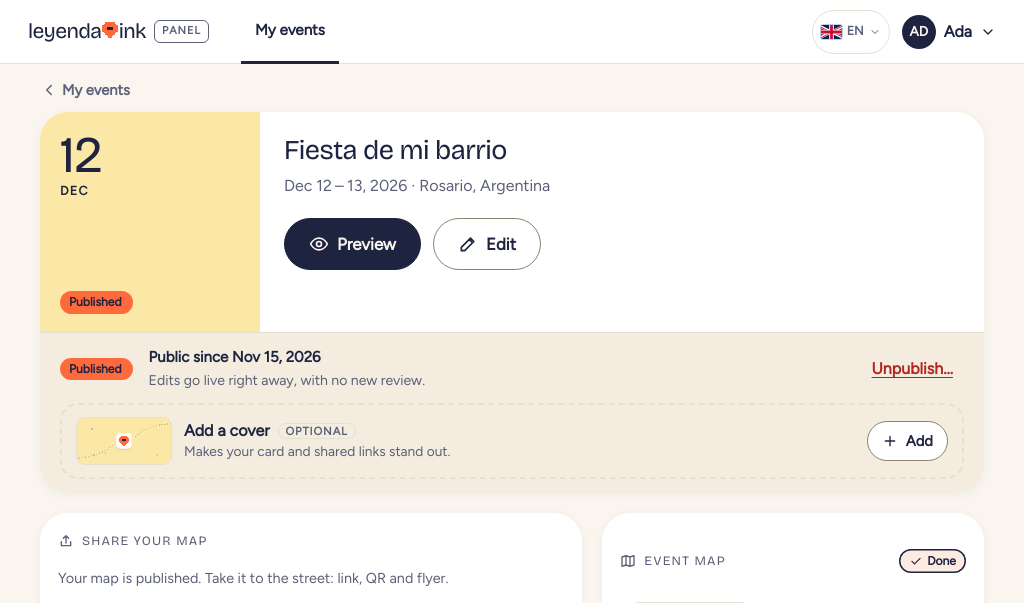
event hub status band › hides the steps when published, says since when, and keeps Unpublish one click away with its confirmation
Expected: the text "Public since Nov 15, 2026" is shown, [149,348,321,366]
What coordinates should you click on to do the following:
click the button "Unpublish…"
I would click on:
 (912, 369)
Its box is [860,347,964,391].
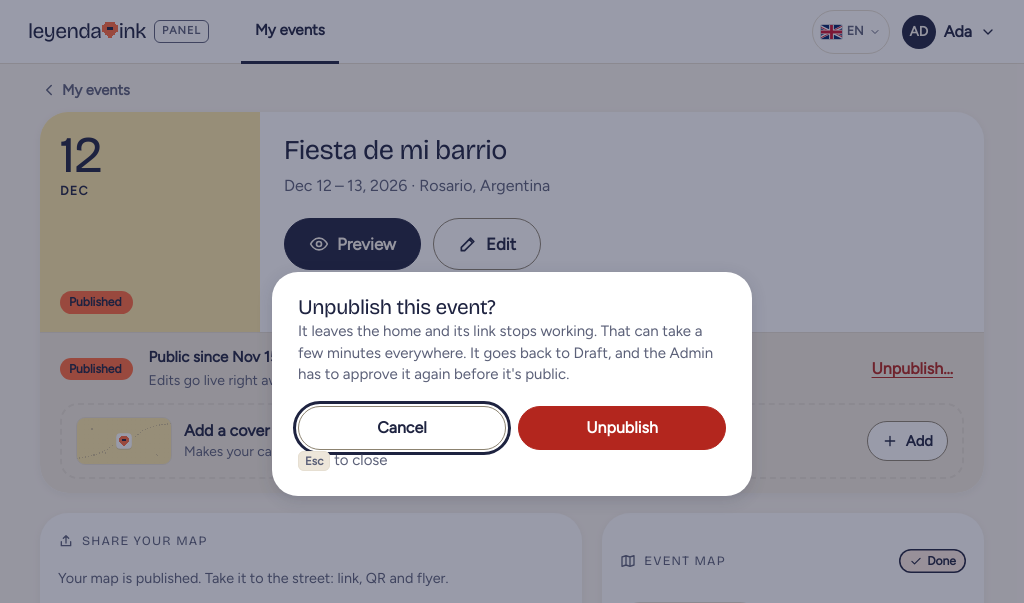
What coordinates should you click on to do the following:
click the button "Unpublish"
I would click on:
 (622, 428)
Its box is [518,406,726,450].
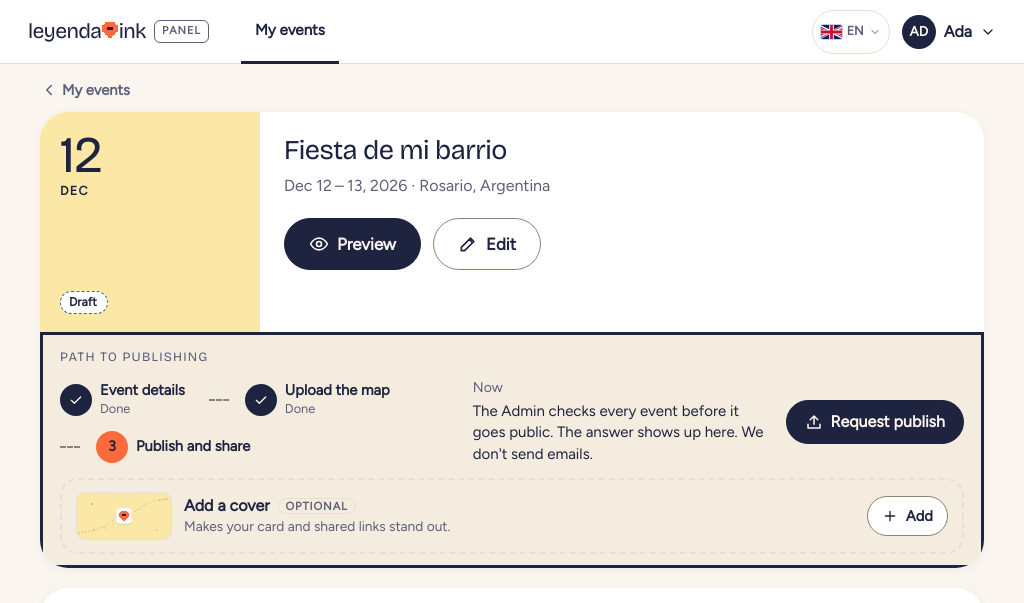
Result: the button "Request publish" is shown at [786,400,964,444]
